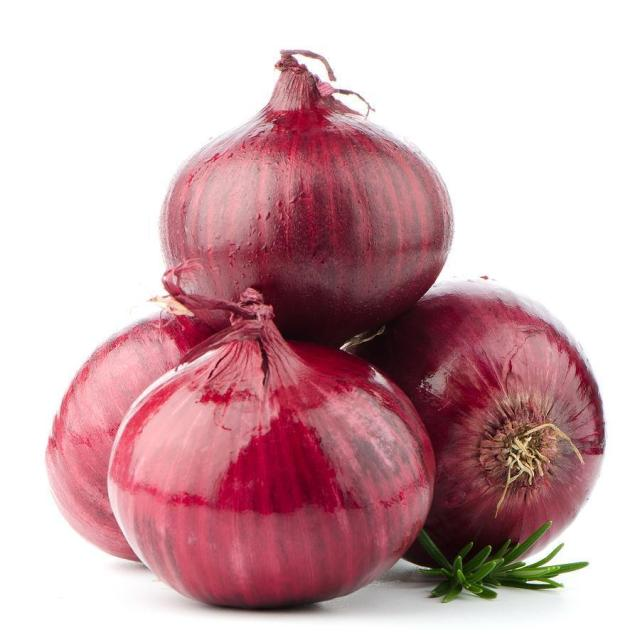Onion: (106, 259, 434, 608), (161, 42, 455, 348), (351, 278, 602, 568), (40, 309, 231, 564), (421, 523, 587, 606)
